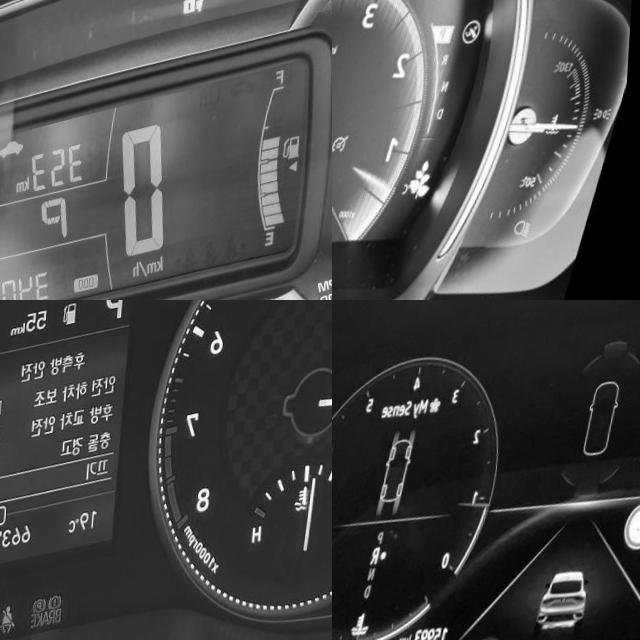Low beam: (518, 242, 540, 268)
SideLamp: (597, 134, 620, 157)
